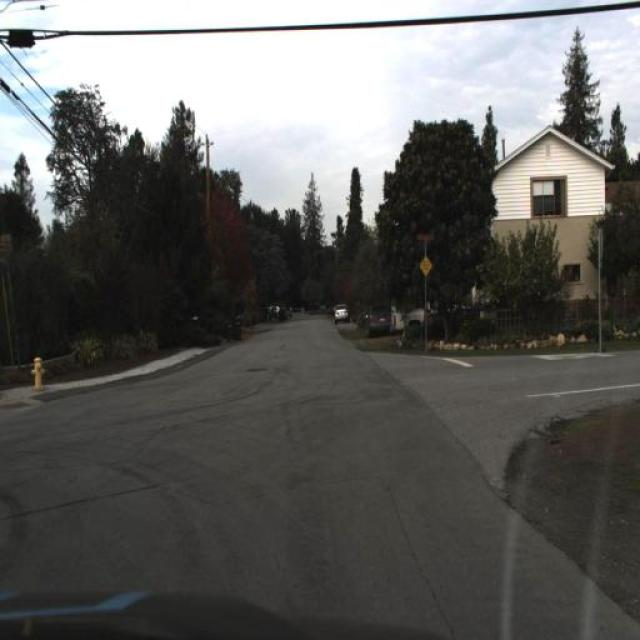car: (388, 296, 438, 346), (360, 300, 392, 340), (367, 302, 392, 342), (333, 299, 351, 325), (332, 300, 350, 320)
